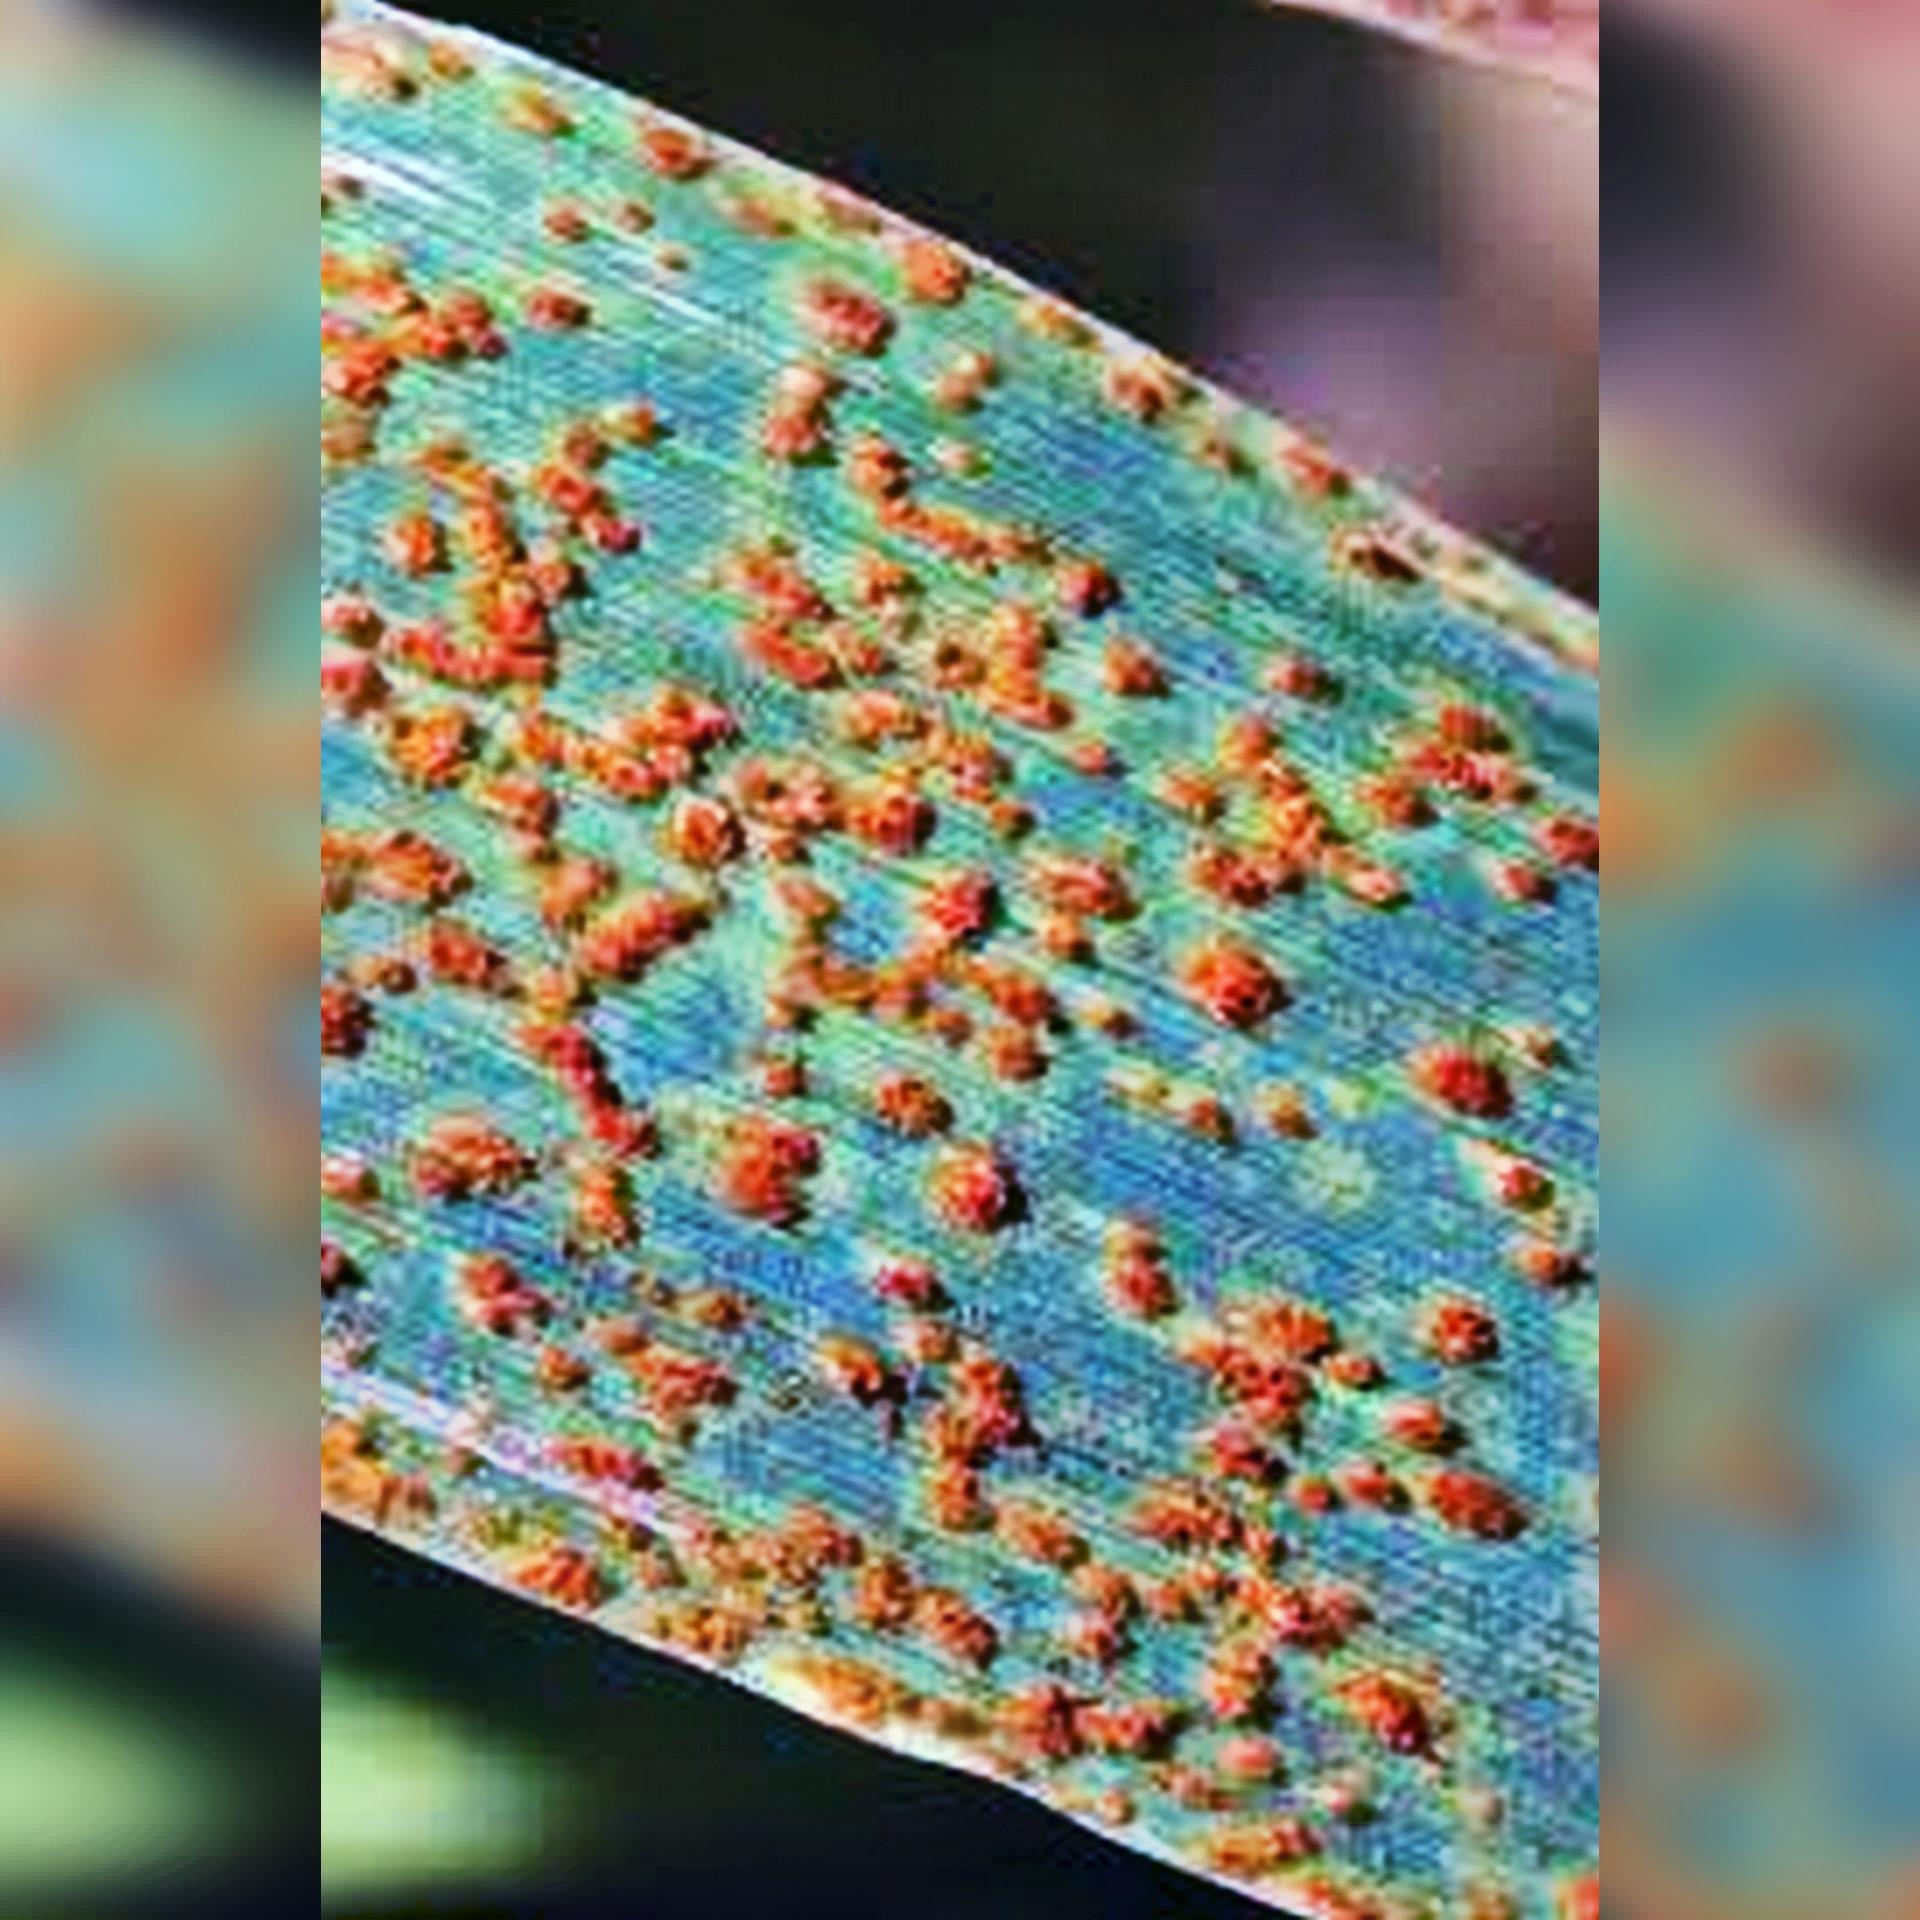Leaf Rust: (313, 105, 1581, 1843)
